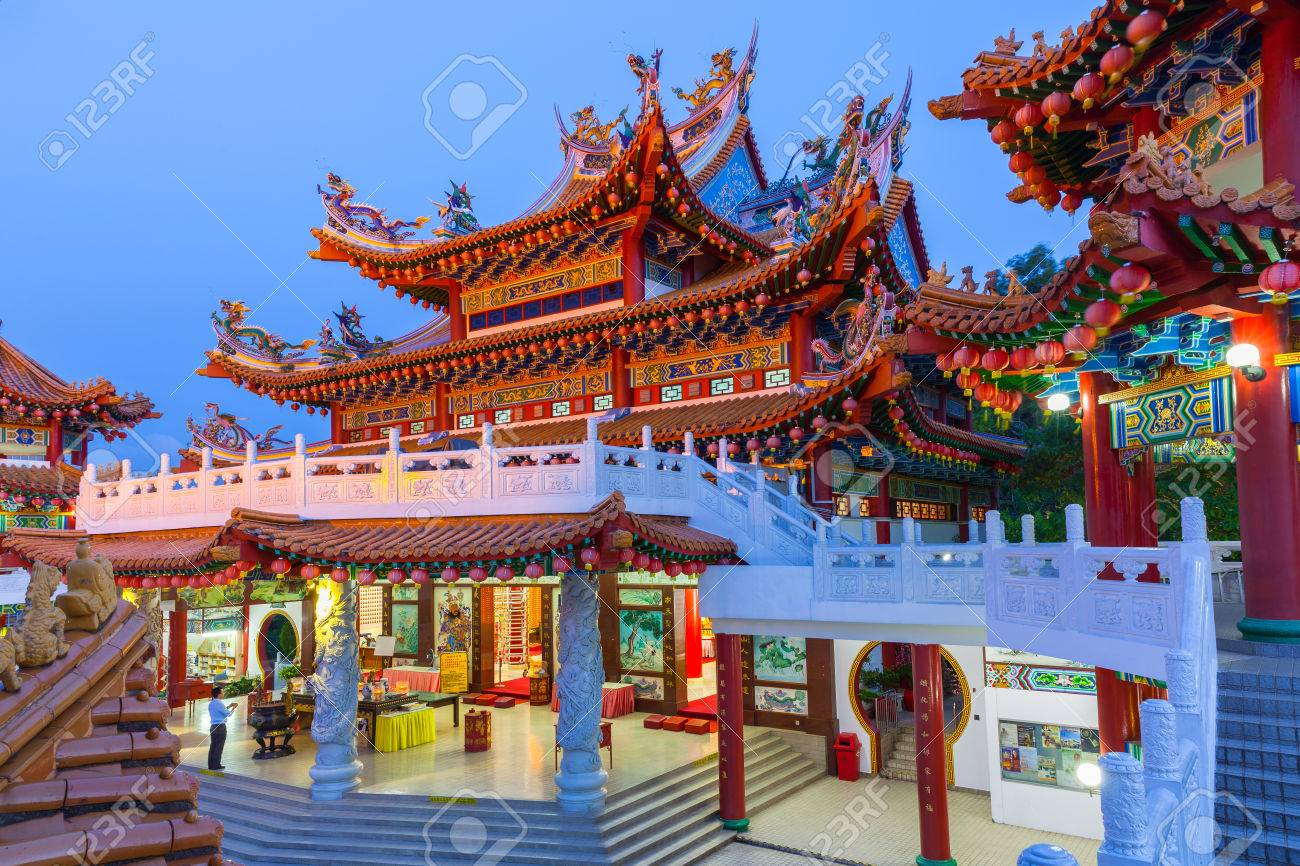Buddhist Temple: (197, 56, 1264, 808)
